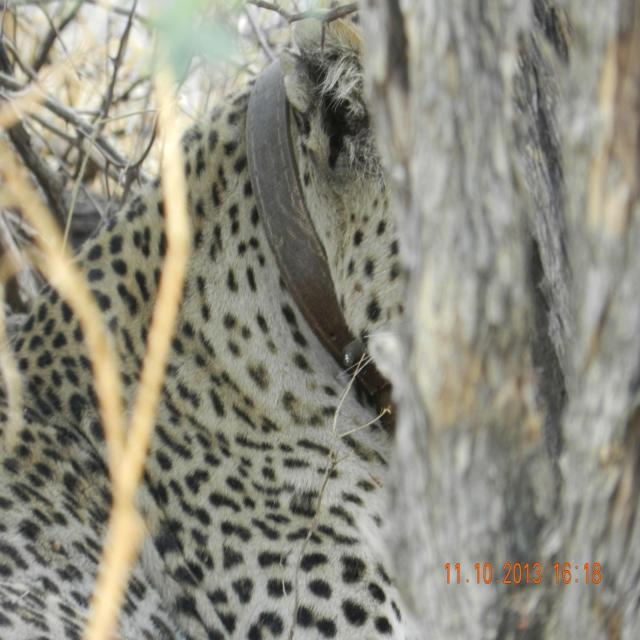Leopard: (10, 27, 550, 640)
